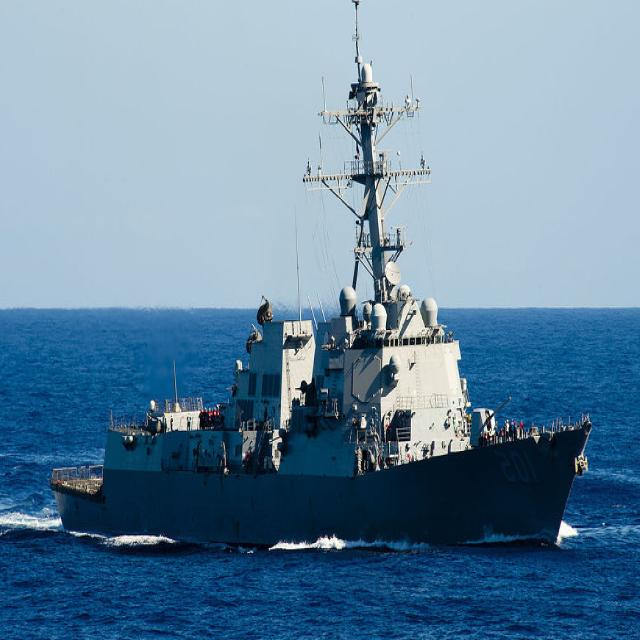navalvessels: (30, 5, 612, 593)
